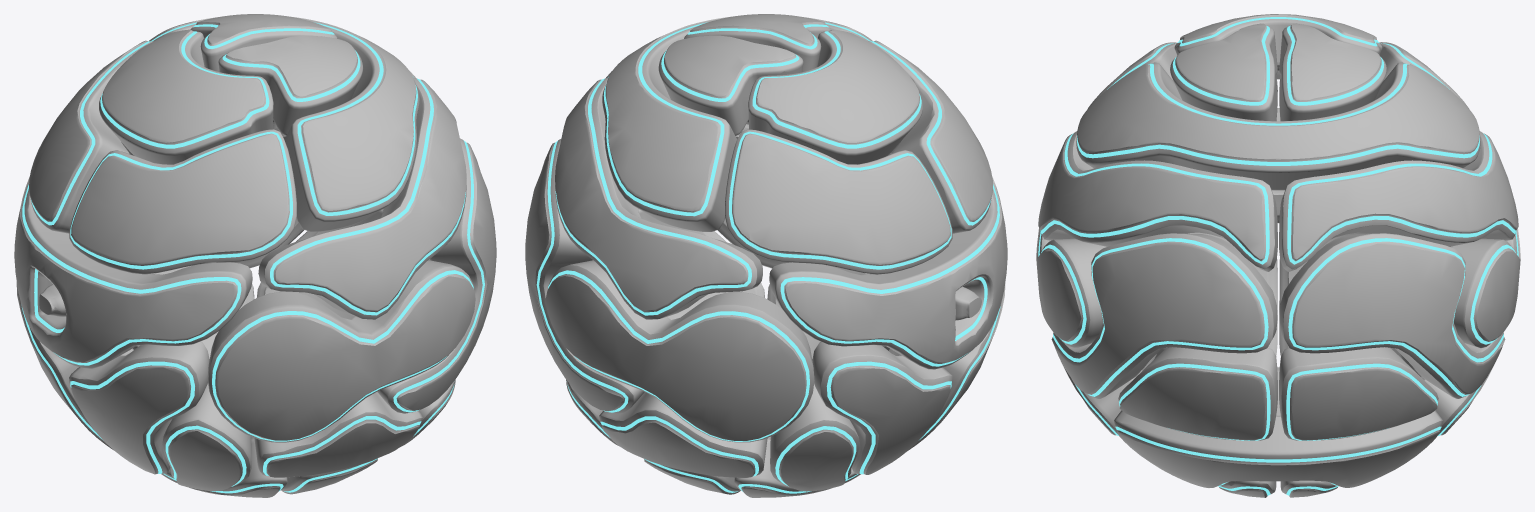
The picture shows the model from 3 angles, left to right: view 1: azimuth 30°, elevation 25°; view 2: azimuth 150°, elevation 25°; view 3: azimuth 270°, elevation 25°; orthographic projection.
Visible parts, largest first — view 1: polySurface20; view 2: polySurface20; view 3: polySurface20.
Boxes of the visible parts, box(x1,y1,x2,y2) form: polySurface20: box(14, 14, 496, 497); polySurface20: box(525, 14, 1007, 497); polySurface20: box(1036, 14, 1520, 497).
Size of the model in its own units: 18.94 by 18.94 by 19.
